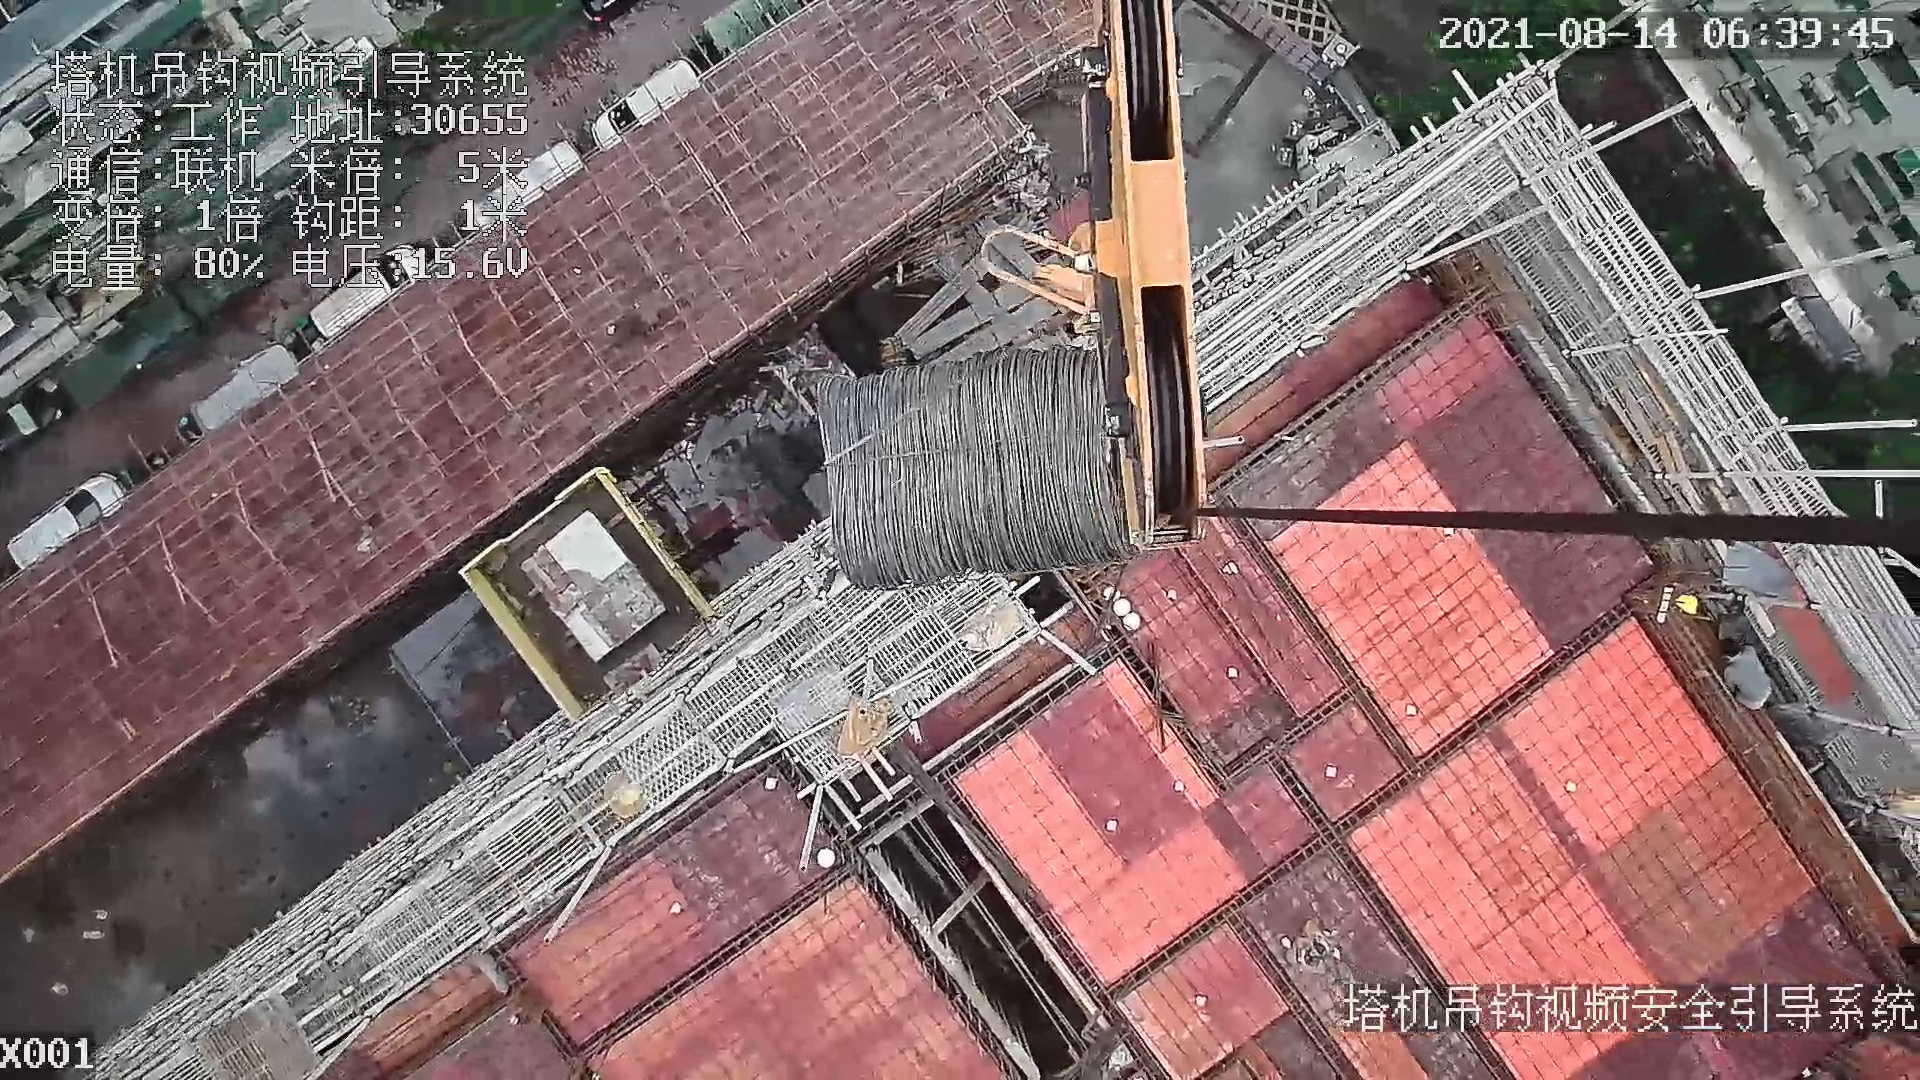hook: (977, 1, 1214, 551)
person: (1708, 628, 1781, 721)
